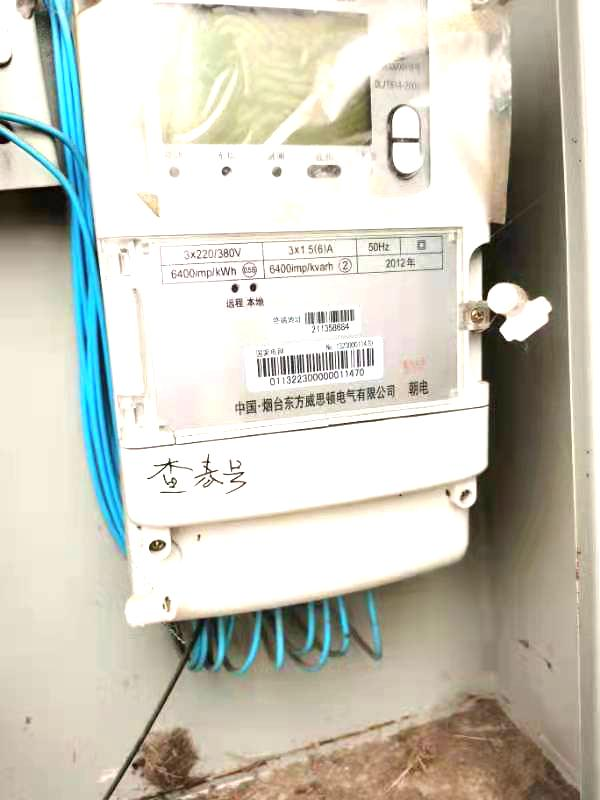digital: (112, 4, 499, 527)
